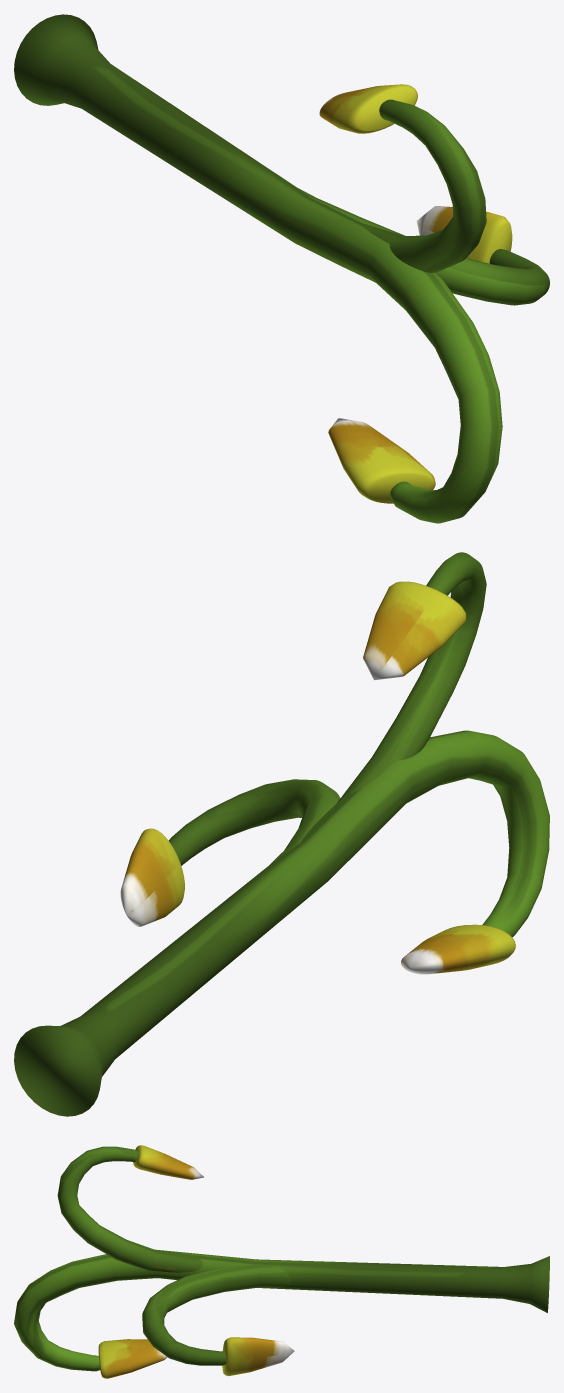
File: corn.obj
3 renders of one model, top to bottom at view 1: azimuth 30°, elevation 25°; view 2: azimuth 150°, elevation 25°; view 3: azimuth 270°, elevation 25°, orthographic. The views are drawn at different scales.
Visible parts, largest first — view 1: candy_corn; view 2: candy_corn; view 3: candy_corn.
Boxes of the visible parts, bbox=[...] form: candy_corn: bbox=[14, 14, 549, 523]; candy_corn: bbox=[14, 552, 549, 1116]; candy_corn: bbox=[14, 1145, 549, 1378].
Size of the model in its own units: 2.32 by 3.34 by 7.02.
